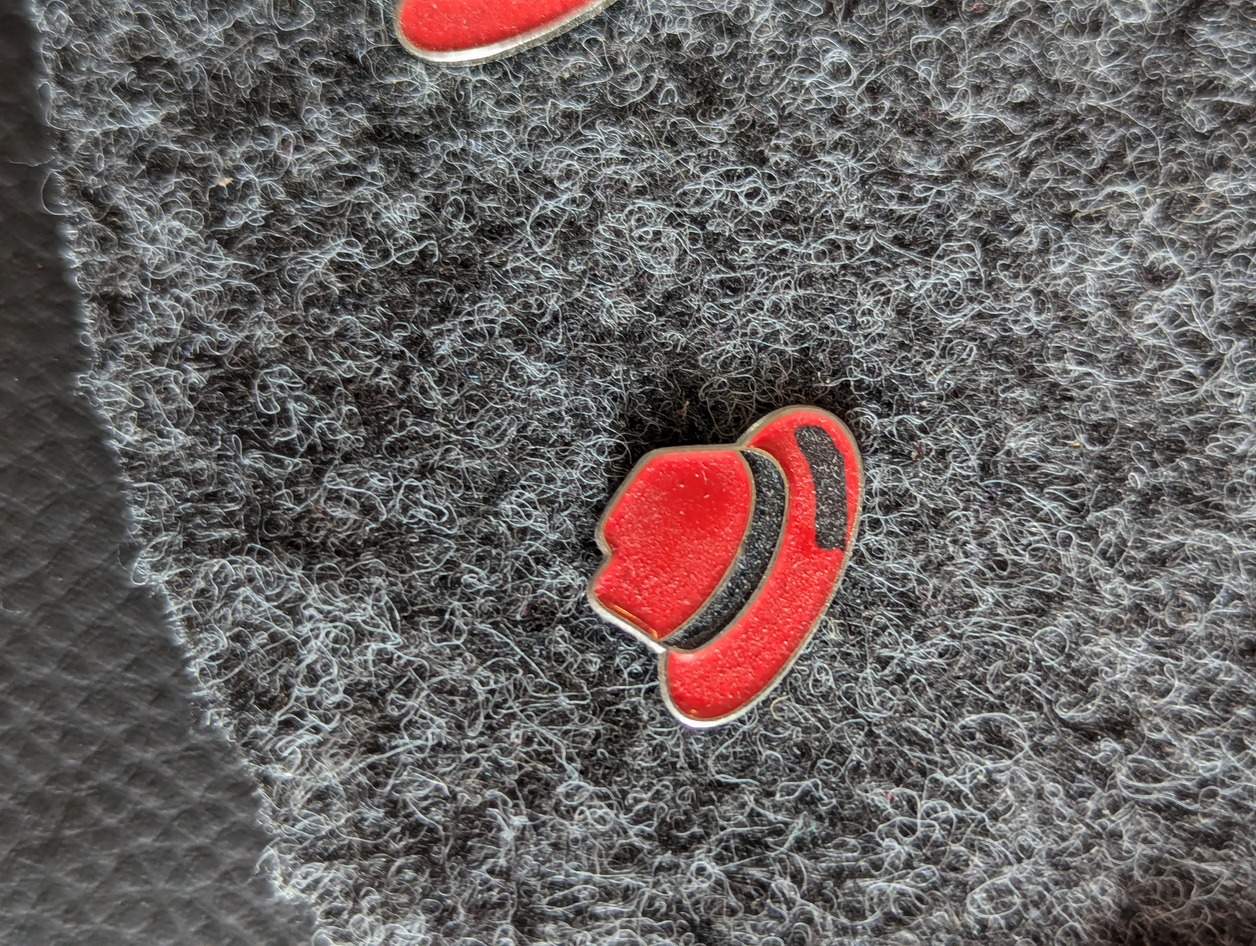Red-Hat: (537, 313, 1018, 838)
Scratch: (763, 385, 906, 592)
